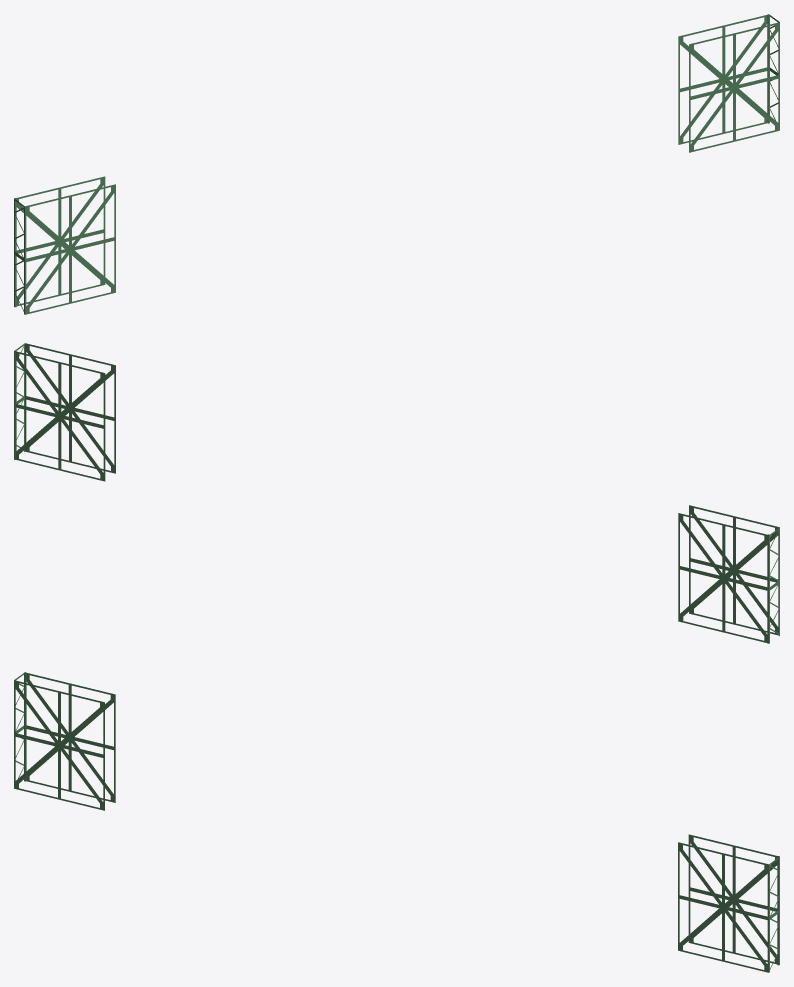
File: front_flame.obj
3 views of the same model, one above another, from view 1: azimuth 30°, elevation 25°; view 2: azimuth 150°, elevation 25°; view 3: azimuth 330°, elevation 25° (orthographic).
Size of the model in its own units: 10965 by 1506 by 278.
1 material, 1 textured.
